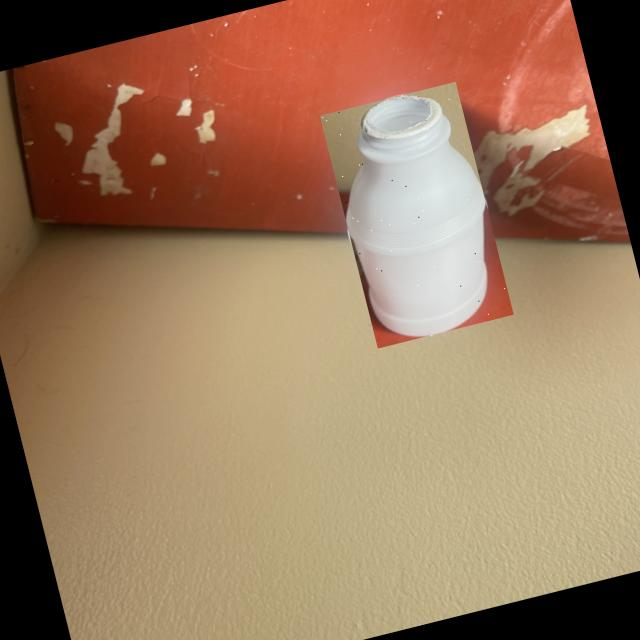HDPE_Bottle: (347, 96, 487, 336)
